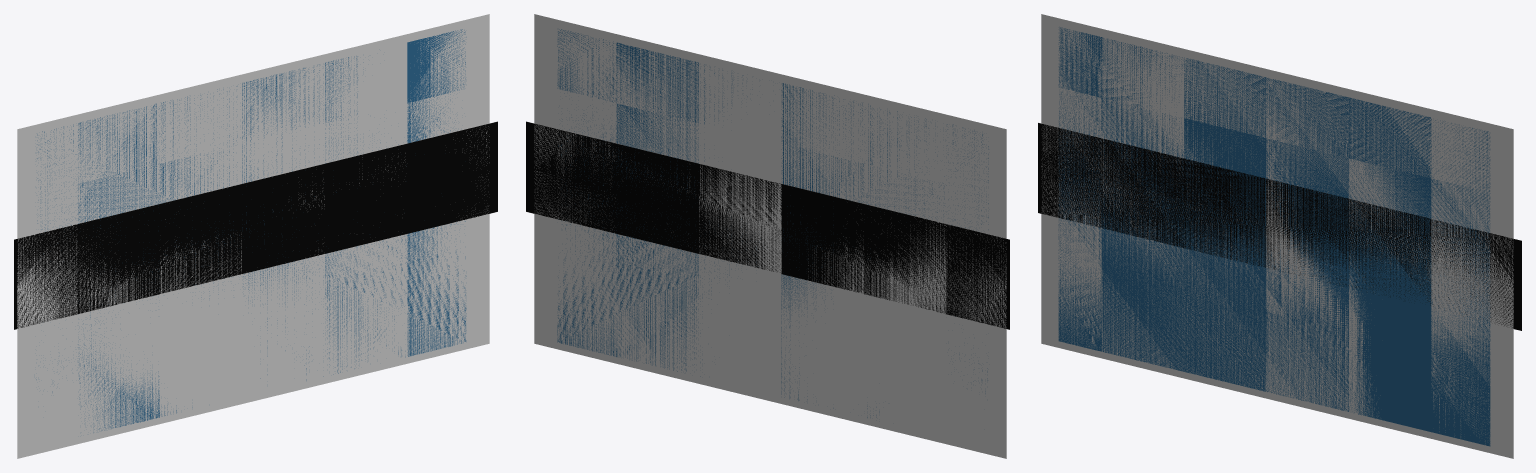
The model's file is BlueprintsScene.glb.
3 renders of one model, left to right at view 1: azimuth 30°, elevation 25°; view 2: azimuth 150°, elevation 25°; view 3: azimuth 330°, elevation 25°, orthographic.
Visible parts, largest first — view 1: Sprite_Background (×2), Sprite_BackgroundGradient; view 2: Sprite_Background (×2), Sprite_BackgroundGradient; view 3: Sprite_Background (×2), Sprite_BackgroundGradient.
Boxes of the visible parts, x1,y1,x2,y2 form: Sprite_Background (×2): [14, 14, 497, 458]; Sprite_BackgroundGradient: [36, 29, 466, 432]; Sprite_Background (×2): [526, 14, 1009, 458]; Sprite_BackgroundGradient: [557, 29, 988, 417]; Sprite_Background (×2): [1038, 14, 1521, 458]; Sprite_BackgroundGradient: [1058, 27, 1490, 446].
Bounding box in the file's own units: 1290 × 840 × 0.
